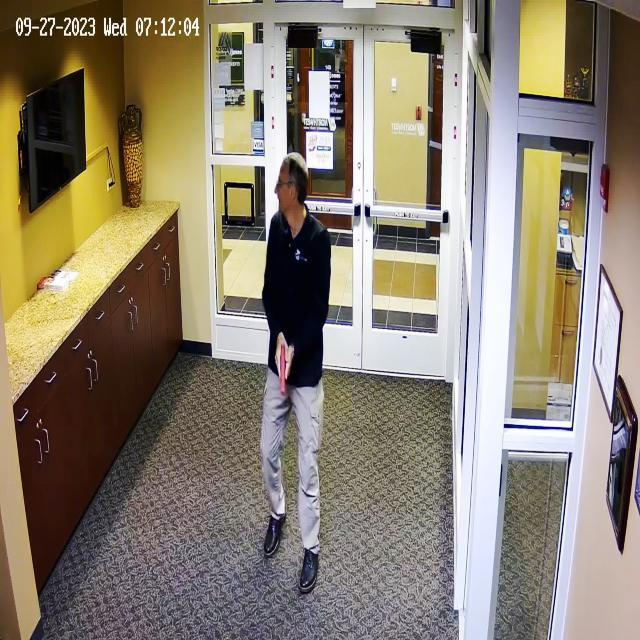Gun: (273, 339, 300, 399)
